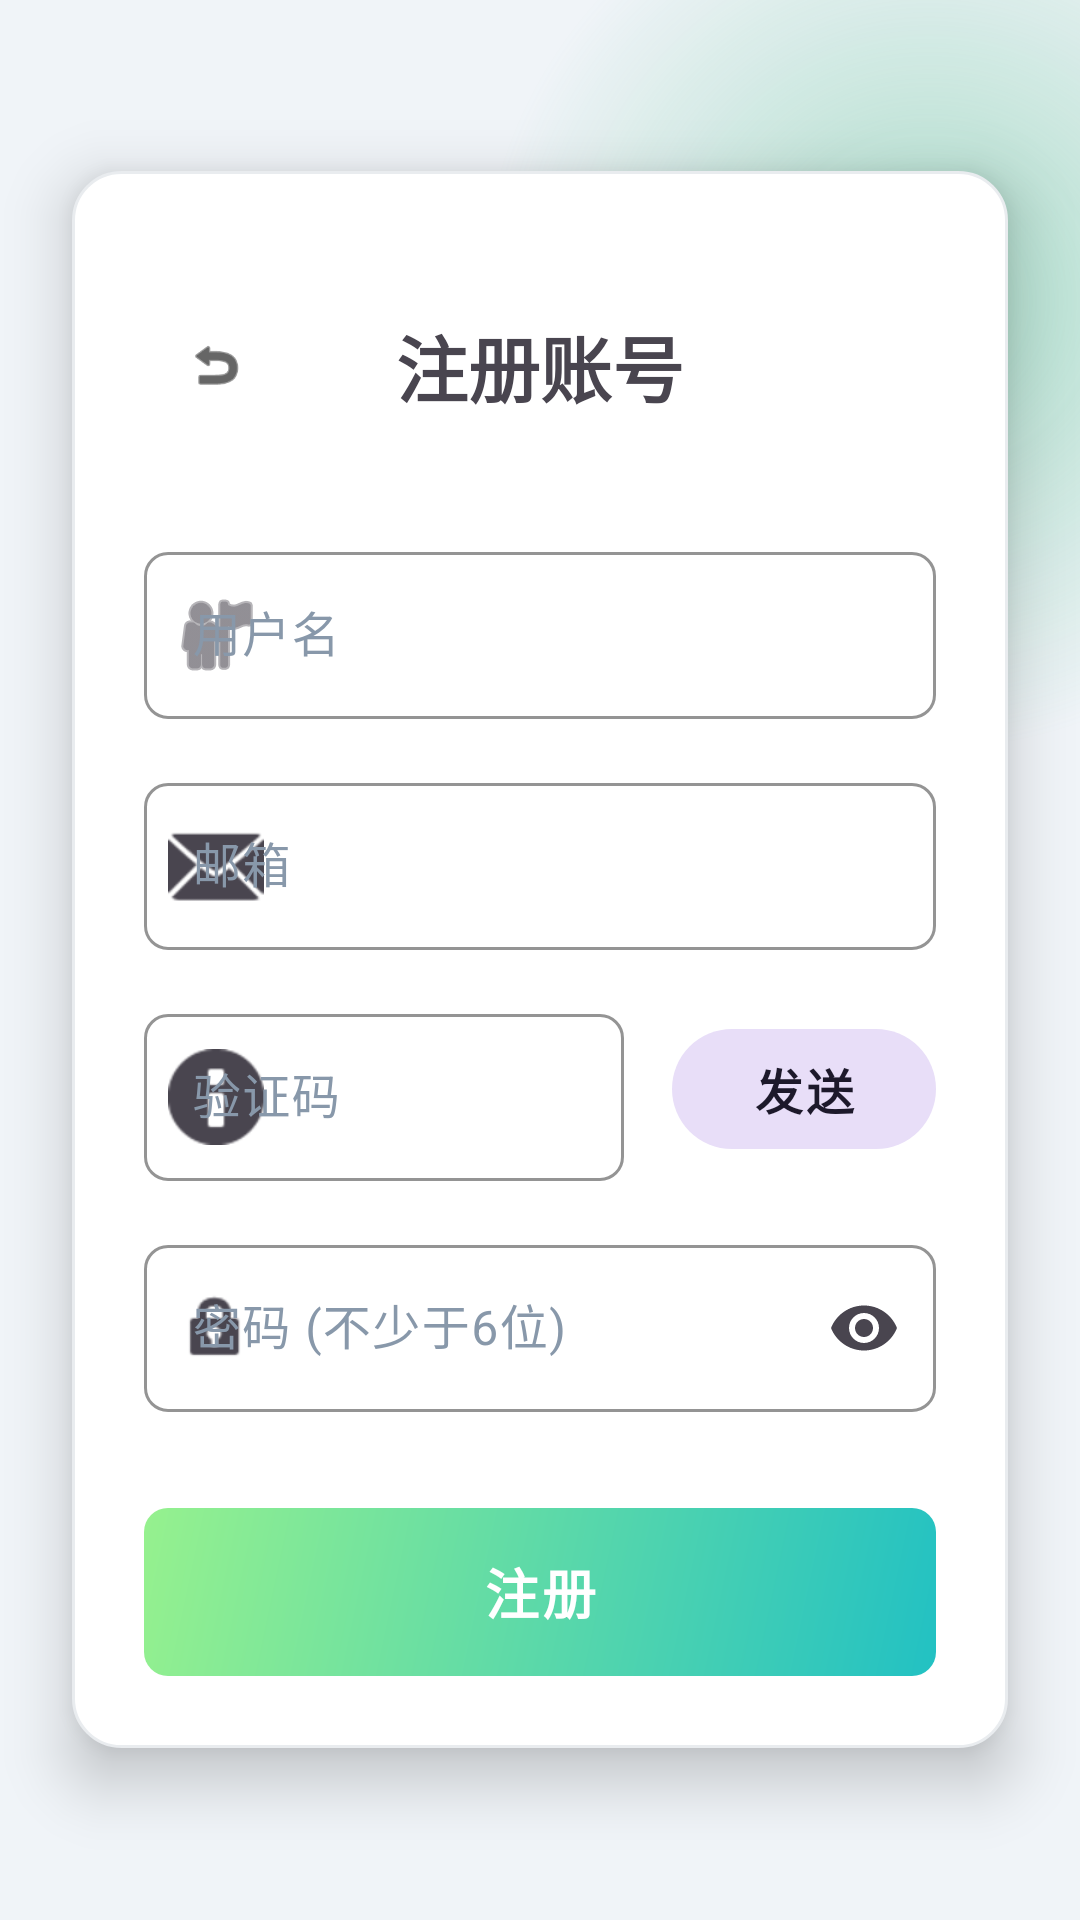

Icons on this 1080*1920 Android screen, each with the point to tap as point (x, y):
revert: point (217, 365)
